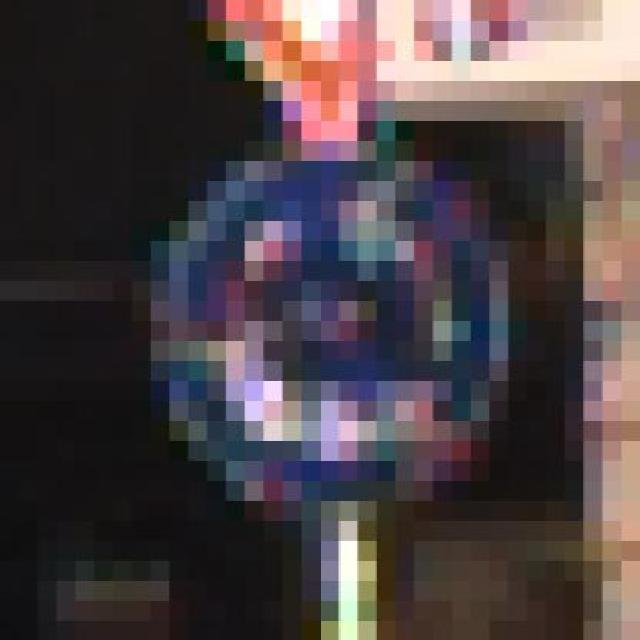Round-About: (93, 120, 564, 540)
